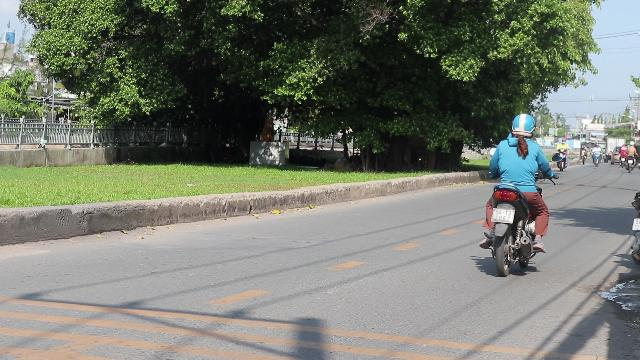helmet: (509, 114, 535, 138)
licenseplate: (492, 207, 514, 222)
motorcyclist: (475, 111, 553, 275)
